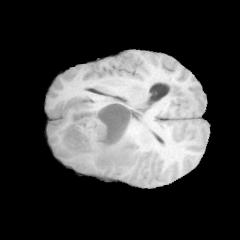glioma: (62, 99, 139, 171)
